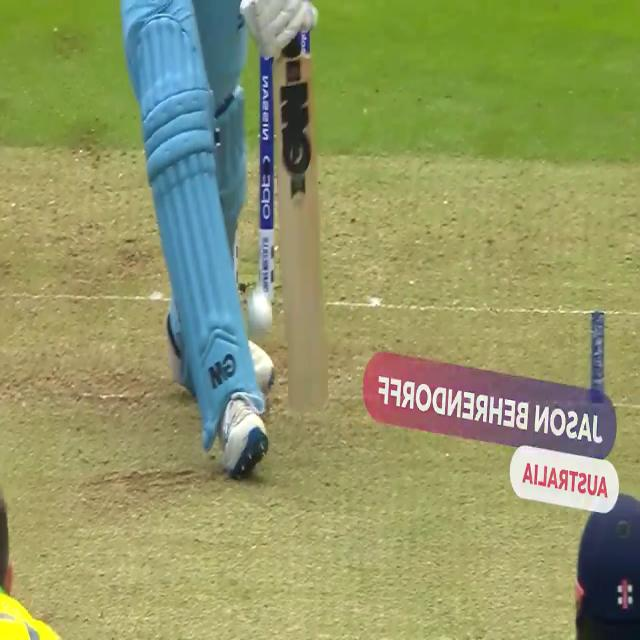ball: (245, 284, 273, 338)
